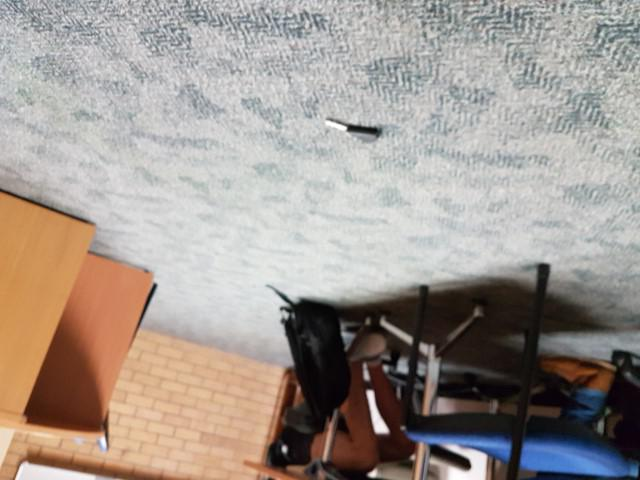key: (323, 112, 387, 146)
